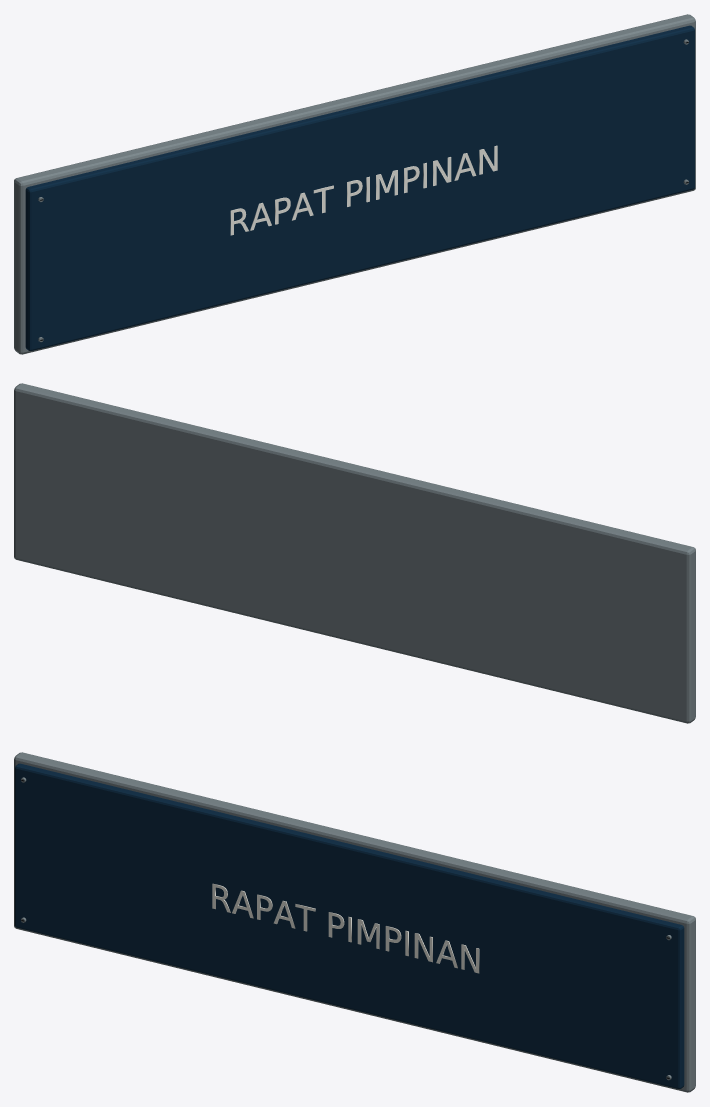
File: OAA_Papan_Ruang_Rapat_Pimpinan.fbx
3 renders of one model, top to bottom at view 1: azimuth 30°, elevation 25°; view 2: azimuth 150°, elevation 25°; view 3: azimuth 330°, elevation 25°, orthographic.
Visible parts, largest first — view 1: Body; view 2: Body; view 3: Body.
Part boxes in pixels (left/top/right/bottom): Body: left=14, top=14, right=695, bottom=354; Body: left=14, top=383, right=695, bottom=723; Body: left=14, top=752, right=695, bottom=1092.
Size of the model in its own units: 0.9 by 0.22 by 0.0312.
